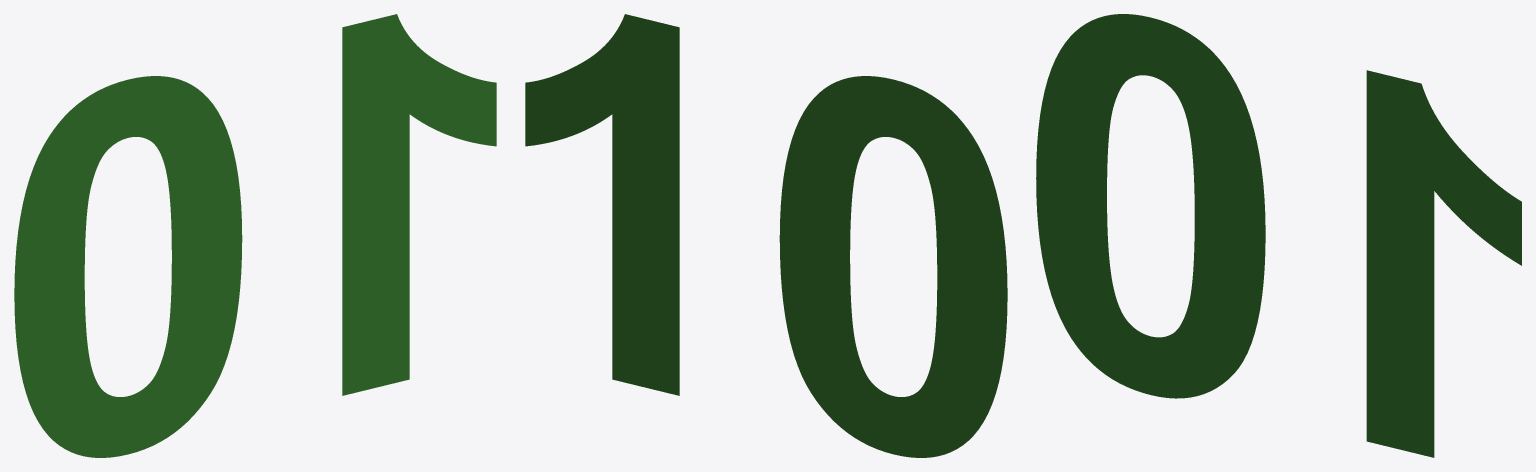
The model's file is SW_corridor__R_lobby_L10.FBX.
3 renders of one model, left to right at view 1: azimuth 30°, elevation 25°; view 2: azimuth 150°, elevation 25°; view 3: azimuth 330°, elevation 25°, orthographic.
Parts seen in each view (by area): view 1: SW_corridor__R_lobby_L10; view 2: SW_corridor__R_lobby_L10; view 3: SW_corridor__R_lobby_L10.
Boxes of the visible parts, bbox=[...] form: SW_corridor__R_lobby_L10: bbox=[14, 14, 496, 457]; SW_corridor__R_lobby_L10: bbox=[525, 14, 1007, 457]; SW_corridor__R_lobby_L10: bbox=[1036, 14, 1521, 457].
Size of the model in its own units: 166 by 0 by 124.
